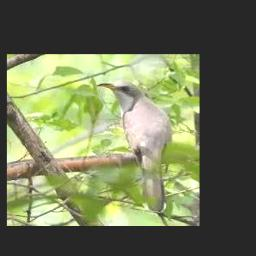Cuckoo: (97, 81, 172, 211)
